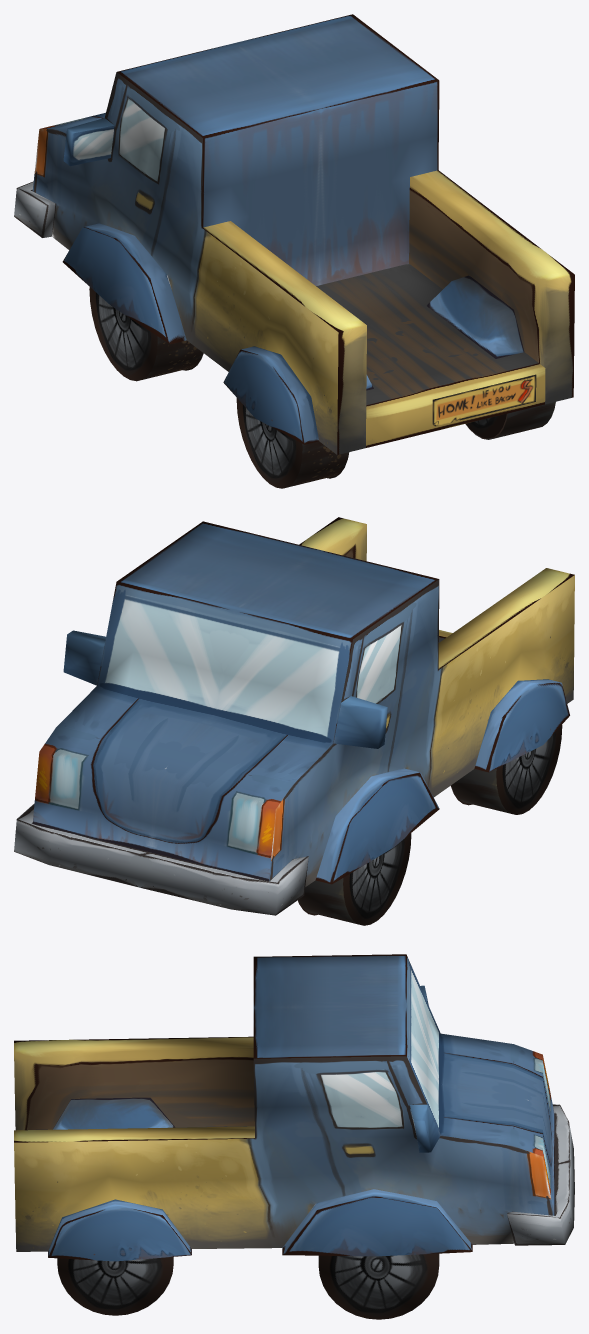
The model's file is PigTruck.fbx.
3 renders of one model, top to bottom at view 1: azimuth 30°, elevation 25°; view 2: azimuth 150°, elevation 25°; view 3: azimuth 270°, elevation 25°, orthographic. The views are drawn at different scales.
Parts seen in each view (by area): view 1: Cube; view 2: Cube; view 3: Cube.
Boxes of the visible parts, <box> form: Cube: <box>14,14,574,488</box>; Cube: <box>14,517,574,925</box>; Cube: <box>14,954,574,1319</box>.
Bounding box in the file's own units: 2.66 × 2.36 × 4.65.
1 material, 1 textured.
